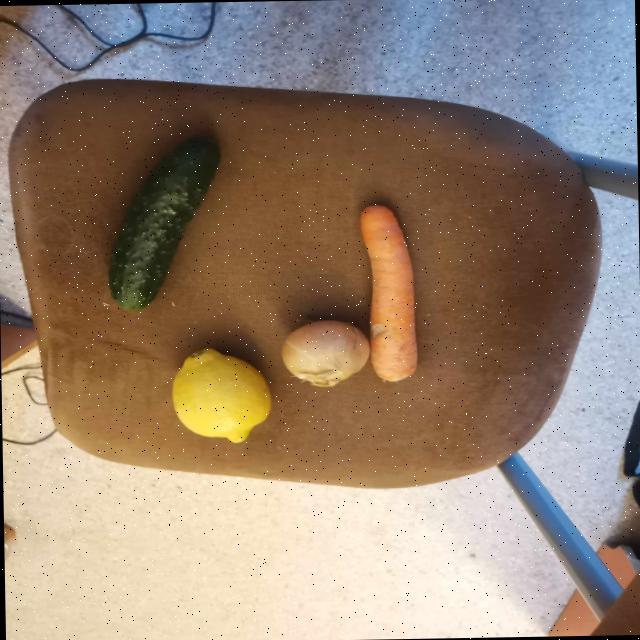carrot: (360, 205, 417, 381)
